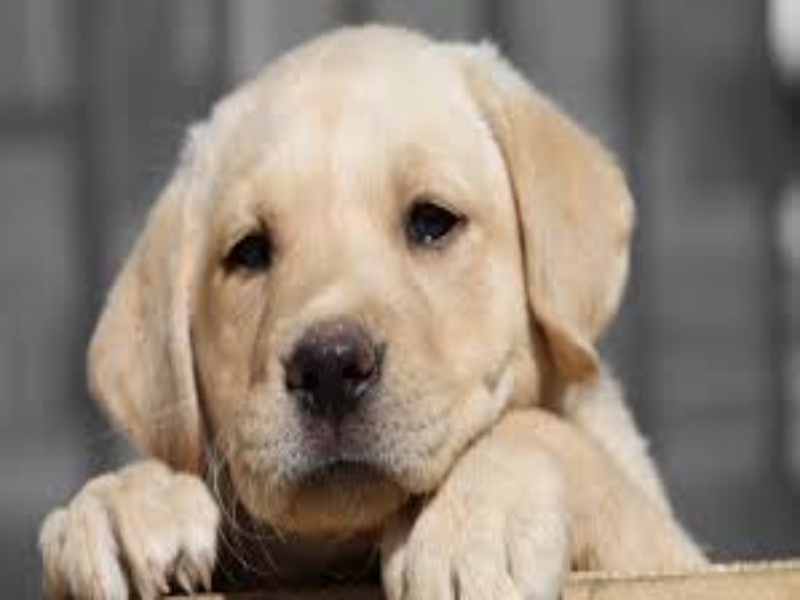dog: (44, 22, 745, 574)
